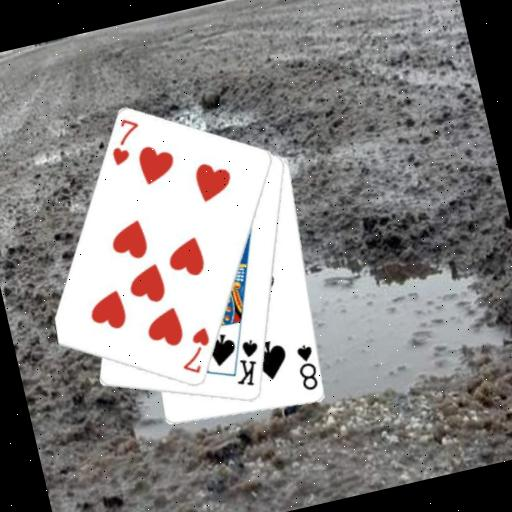7H: (102, 113, 149, 170), (172, 323, 219, 379)
8S: (291, 340, 324, 395)
KS: (226, 334, 269, 391)
